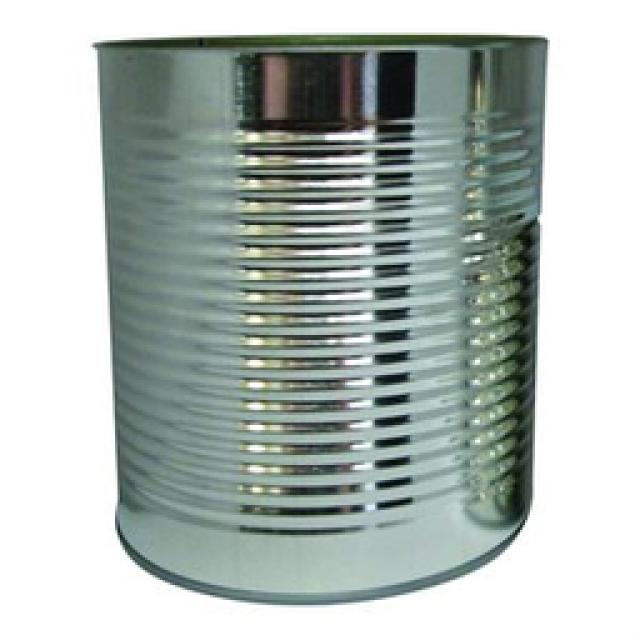alumunium: (95, 35, 545, 600)
